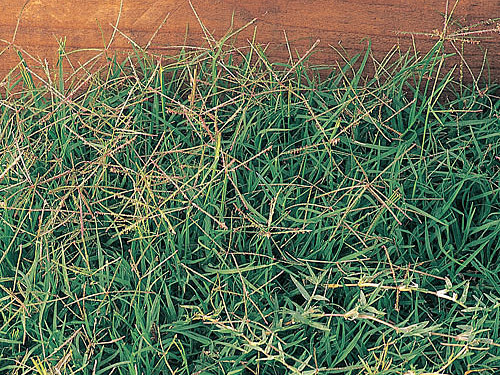crabgrass: (51, 136, 476, 356)
